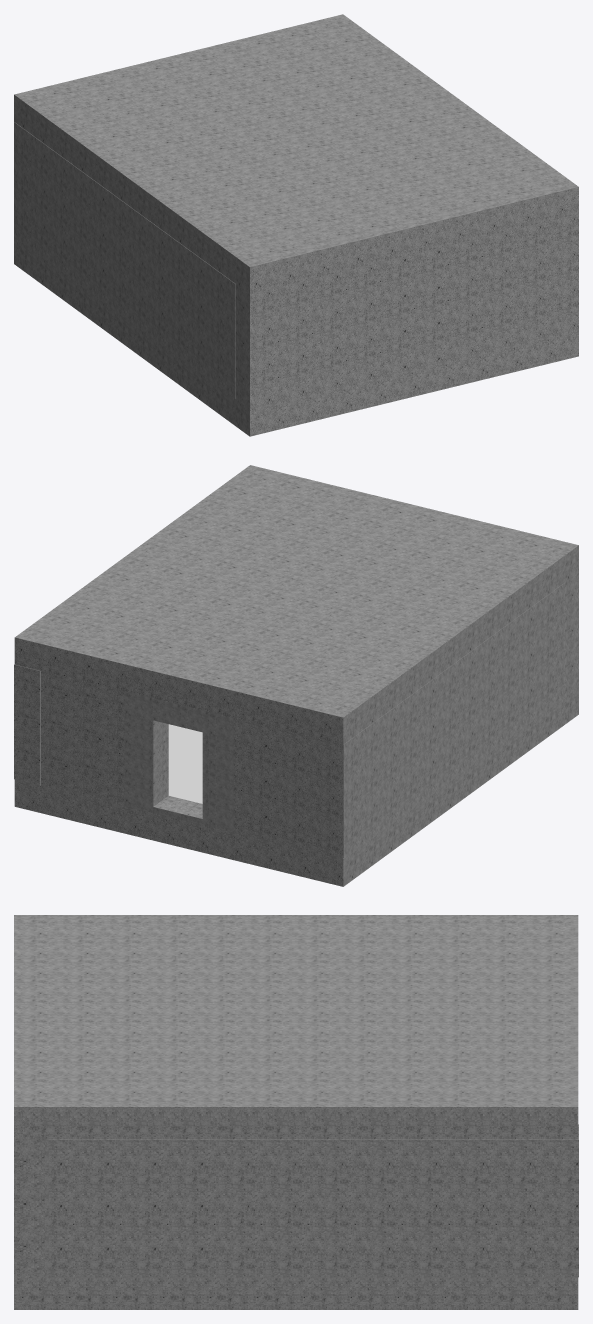
Rendered from Map.fbx.
3 views of the same model, one above another, from view 1: azimuth 30°, elevation 25°; view 2: azimuth 150°, elevation 25°; view 3: azimuth 270°, elevation 25° (orthographic). The views are drawn at different scales.
Visible parts, largest first — view 1: Cube.008, Cube.007, Cube.006, Cube.009; view 2: Cube.008, Cube.006, Cube.009, Cube.004, Cube.001, Cube.003, Cube.005, Cube.007; view 3: Cube.008, Cube.005, Cube.009, Cube.007.
Boxes of the visible parts, x1=… form: Cube.008: x1=14, y1=14, x2=578, y2=294; Cube.007: x1=236, y1=214, x2=578, y2=408; Cube.006: x1=14, y1=122, x2=235, y2=398; Cube.009: x1=14, y1=237, x2=578, y2=436; Cube.008: x1=14, y1=465, x2=578, y2=745; Cube.006: x1=343, y1=582, x2=565, y2=858; Cube.009: x1=14, y1=687, x2=578, y2=886; Cube.004: x1=233, y1=718, x2=343, y2=859; Cube.001: x1=124, y1=691, x2=233, y2=832; Cube.003: x1=41, y1=671, x2=124, y2=805; Cube.005: x1=14, y1=664, x2=40, y2=785; Cube.007: x1=565, y1=572, x2=578, y2=696; Cube.008: x1=14, y1=915, x2=578, y2=1140; Cube.005: x1=48, y1=1124, x2=578, y2=1277; Cube.009: x1=14, y1=1276, x2=578, y2=1309; Cube.007: x1=14, y1=1139, x2=48, y2=1276.
Size of the model in its own units: 601 by 295 by 746.
